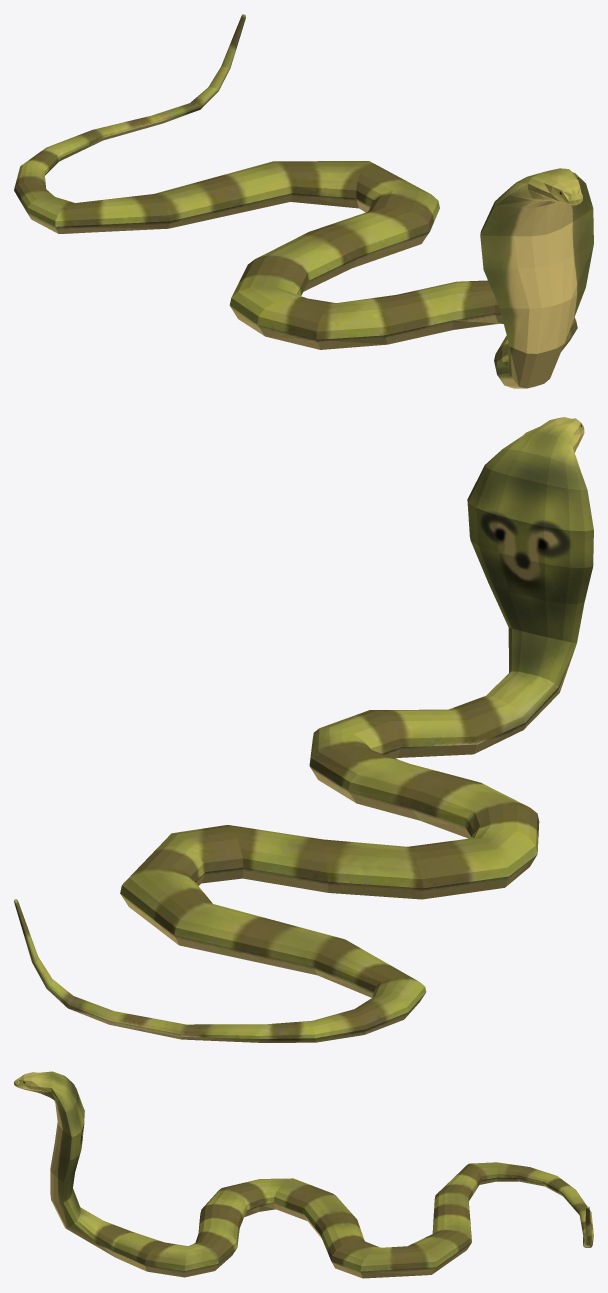
File: cobra.glb
The picture shows the model from 3 angles, top to bottom: view 1: azimuth 30°, elevation 25°; view 2: azimuth 150°, elevation 25°; view 3: azimuth 270°, elevation 25°; orthographic projection. The views are drawn at different scales.
Parts seen in each view (by area): view 1: Node; view 2: Node; view 3: Node.
Part boxes in pixels (box(x1,y1,x2,y2)): Node: box(14, 14, 593, 388); Node: box(14, 417, 593, 1042); Node: box(14, 1071, 593, 1278).
Size of the model in its own units: 7.22 by 5.5 by 16.82.
3 materials, 1 textured.
